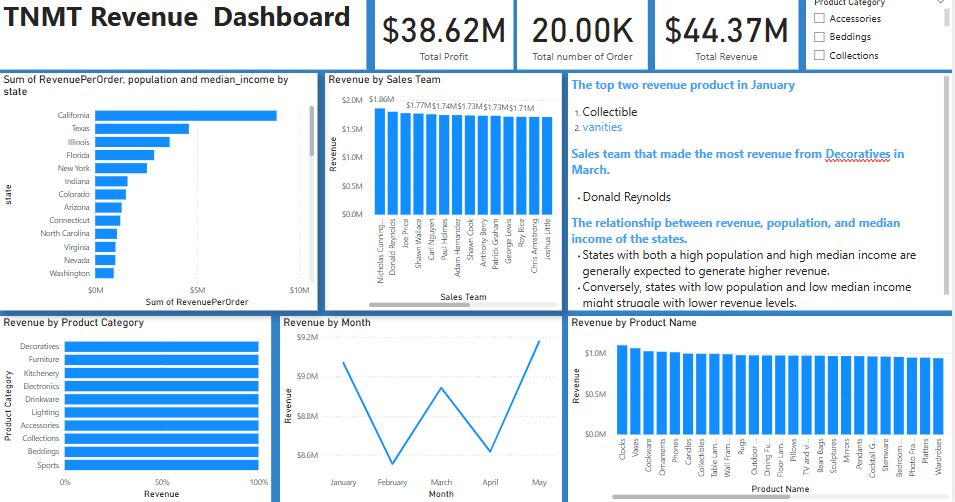

What the dashboard file says about the page in this screenshot:
{"tool":"powerbi","page":{"name":"Page 1","canvas":[1500,800],"ordinal":0},"visuals":[{"type":"lineChart","fields":{"Y":["Sales table.RevenuePerOrder"],"Category":["Sales table.Sales Date.Variation.Date Hierarchy.Month"]},"box":[440.3,506.5,443.5,293.5],"z":0},{"type":"clusteredBarChart","fields":{"Category":["Products.Product Name"],"Y":["Sales table.RevenuePerOrder"]},"box":[895.2,506.5,604.8,293.5],"z":1000},{"type":"columnChart","fields":{"Category":["Products.Product Category"],"Y":["Sales table.RevenuePerOrder"]},"box":[0,506.5,427.4,293.5],"z":2000},{"type":"barChart","fields":{"Category":["Sales Team.Sales Team"],"Y":["Sales table.RevenuePerOrder"]},"box":[511.3,124.2,372.6,374.2],"z":3000},{"type":"clusteredBarChart","fields":{"Category":["Store Locations.state"],"Y":["Sales table.RevenuePerOrder"]},"box":[0,124.2,500,374.2],"z":4000},{"type":"textbox","box":[895.2,124.2,604.8,374.2],"z":5000},{"type":"textbox","box":[0,0,577.4,119.4],"z":6000},{"type":"card","fields":{"Values":["Sales table.RevenuePerOrder"]},"box":[1032.3,0,225.8,119.4],"z":7000},{"type":"card","fields":{"Values":["Sales table.Order Number"]},"box":[814.5,0,206.5,119.4],"z":8000},{"type":"card","fields":{"Values":["Sales table.ProfitPerOrder"]},"box":[590.3,0,217.7,119.4],"z":9000},{"type":"slicer","fields":{"Values":["Products.Product Category"]},"box":[1269.4,0,230.6,119.4],"z":10000}]}

Visuals, with their boxes in screenshot pixels (x1, y1, x2, y2), scaled from the page's 1500x800 canvas onto the 955x502 screenshot:
lineChart - Sales table.RevenuePerOrder x Sales table.Sales Date.Variation.Date Hierarchy.Month: pyautogui.locateOnScreen(280, 318, 563, 501)
clusteredBarChart - Products.Product Name x Sales table.RevenuePerOrder: pyautogui.locateOnScreen(570, 318, 954, 501)
columnChart - Products.Product Category x Sales table.RevenuePerOrder: pyautogui.locateOnScreen(0, 318, 272, 501)
barChart - Sales Team.Sales Team x Sales table.RevenuePerOrder: pyautogui.locateOnScreen(326, 78, 563, 313)
clusteredBarChart - Store Locations.state x Sales table.RevenuePerOrder: pyautogui.locateOnScreen(0, 78, 318, 313)
textbox: pyautogui.locateOnScreen(570, 78, 954, 313)
textbox: pyautogui.locateOnScreen(0, 0, 368, 75)
card - Sales table.RevenuePerOrder: pyautogui.locateOnScreen(657, 0, 801, 75)
card - Sales table.Order Number: pyautogui.locateOnScreen(519, 0, 650, 75)
card - Sales table.ProfitPerOrder: pyautogui.locateOnScreen(376, 0, 514, 75)
slicer - Products.Product Category: pyautogui.locateOnScreen(808, 0, 954, 75)
